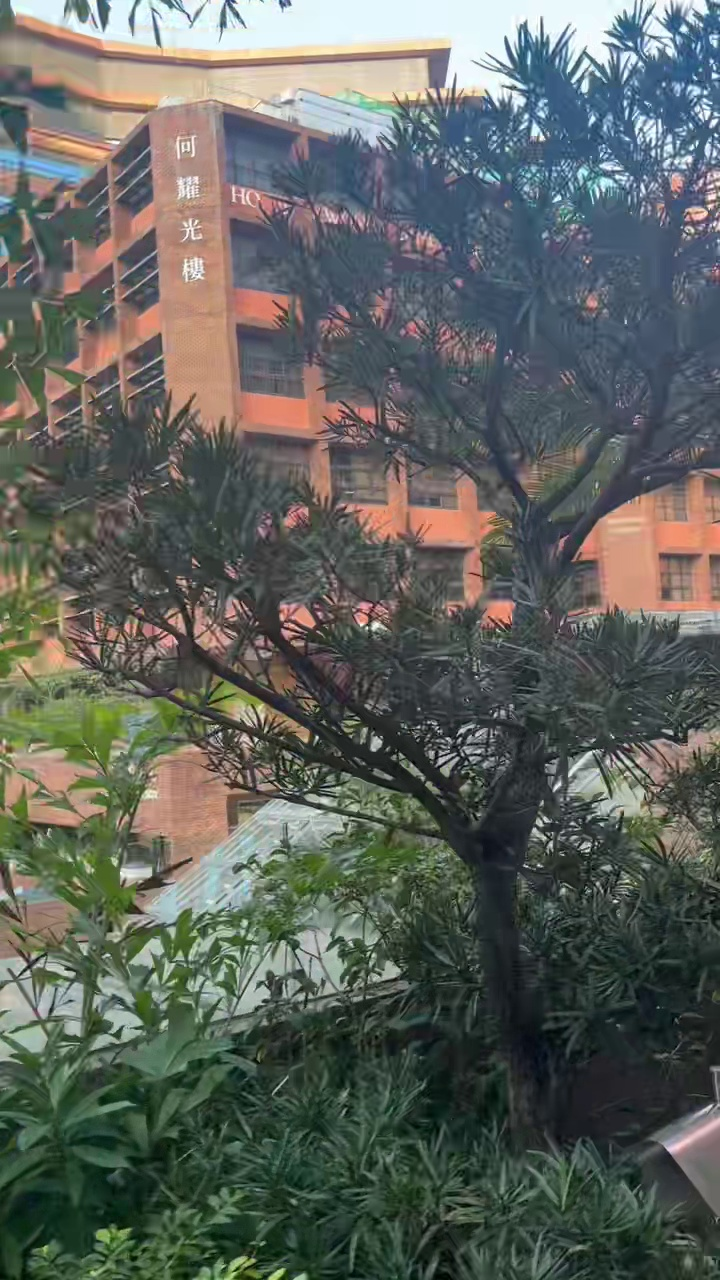Podocarpus macrophyllus: (30, 0, 719, 1130)
